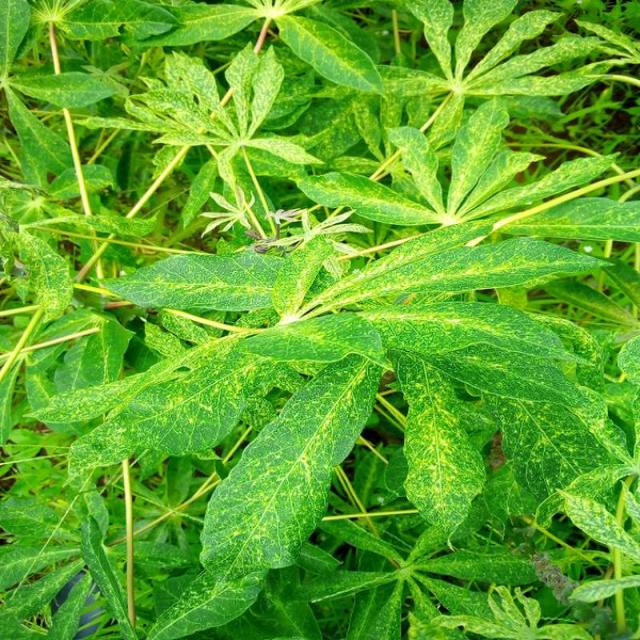cassava leaf: (5, 2, 638, 637), (198, 349, 383, 581)
